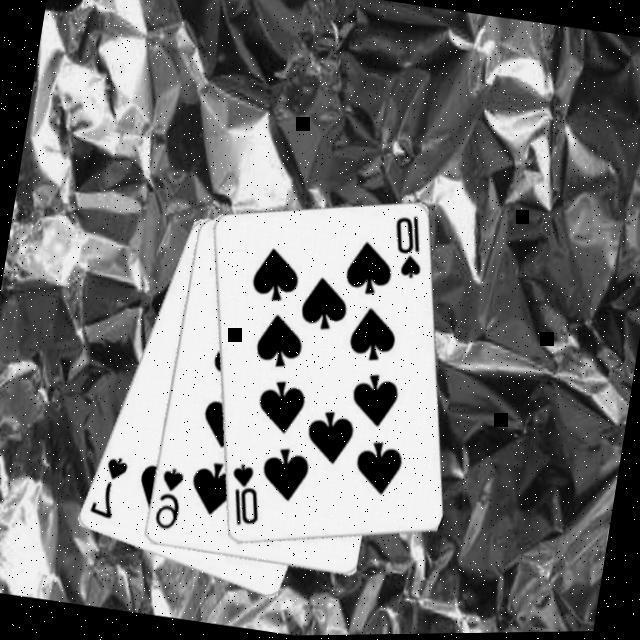10S: (220, 461, 268, 535), (383, 213, 431, 287)
7S: (84, 453, 131, 527)
9S: (148, 465, 188, 537)
